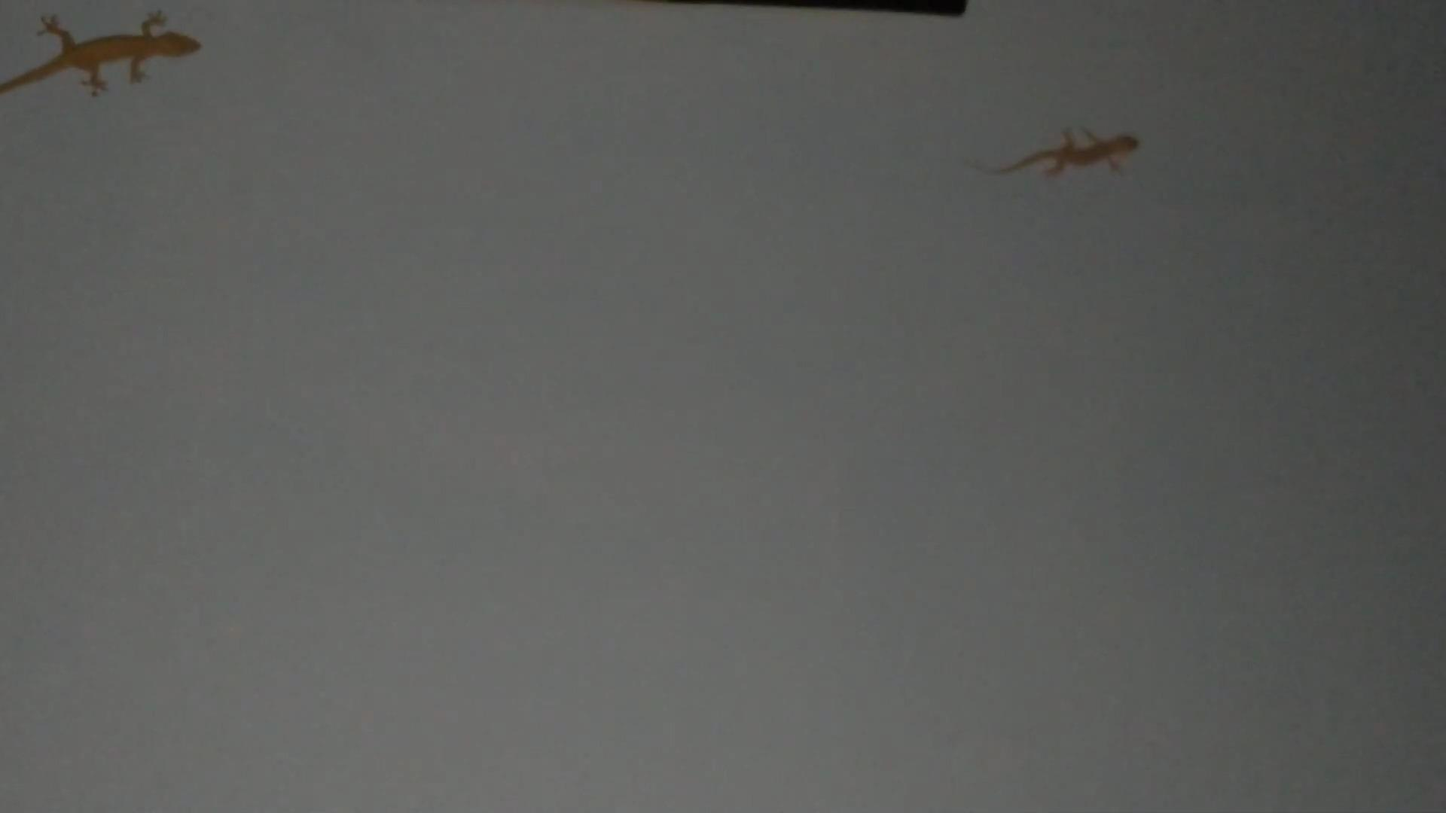lizard: (0, 0, 211, 128), (985, 81, 1182, 217)
